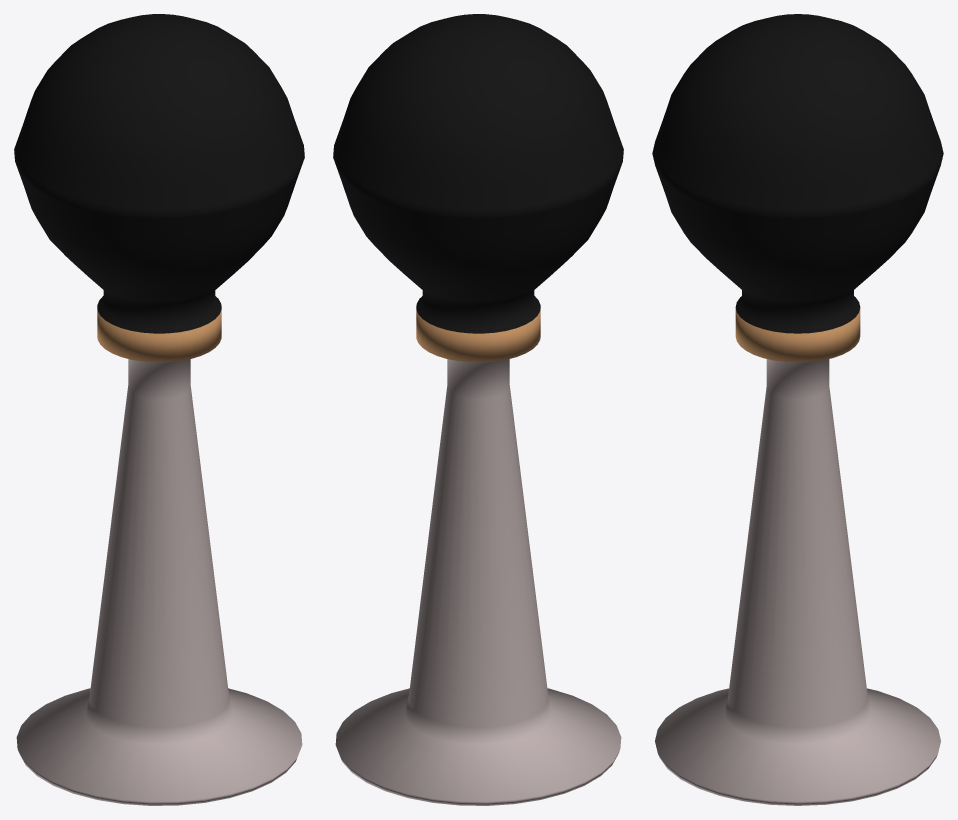
Rendered from clownhorn.glb.
3 renders of one model, left to right at view 1: azimuth 30°, elevation 25°; view 2: azimuth 150°, elevation 25°; view 3: azimuth 270°, elevation 25°, orthographic.
Visible parts, largest first — view 1: Cone; view 2: Cone; view 3: Cone.
Boxes of the visible parts, x1=… form: Cone: x1=14, y1=14, x2=304, y2=805; Cone: x1=333, y1=14, x2=623, y2=805; Cone: x1=652, y1=14, x2=943, y2=805.
Size of the model in its own units: 2.09 by 5.69 by 2.09.
